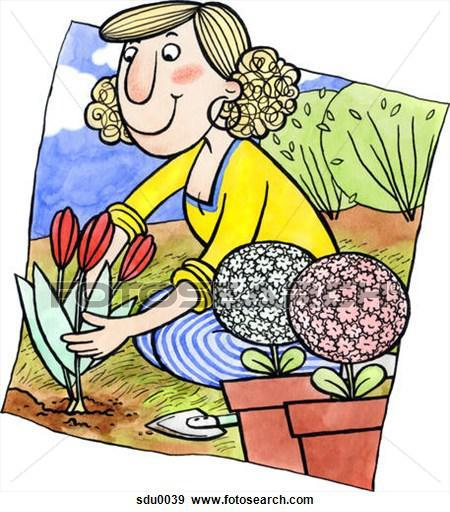person: (54, 2, 407, 382)
pottedplant: (276, 251, 415, 493), (206, 243, 345, 481)
